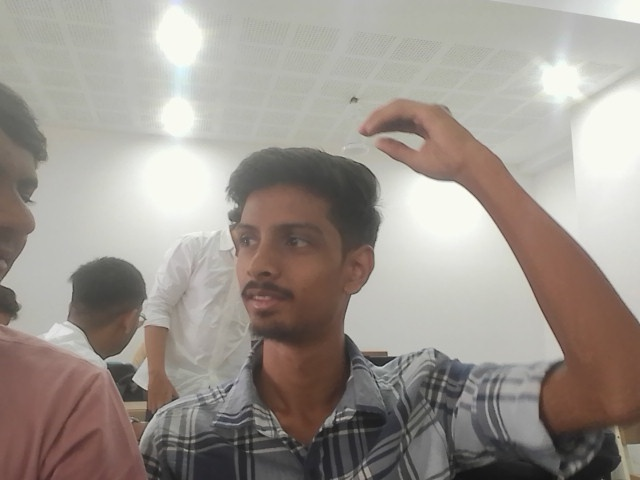light_off: (547, 233, 571, 280)
light_on: (560, 80, 639, 127), (444, 114, 494, 166), (615, 5, 636, 25)
person: (0, 80, 145, 479), (139, 196, 254, 422), (45, 255, 152, 406)
